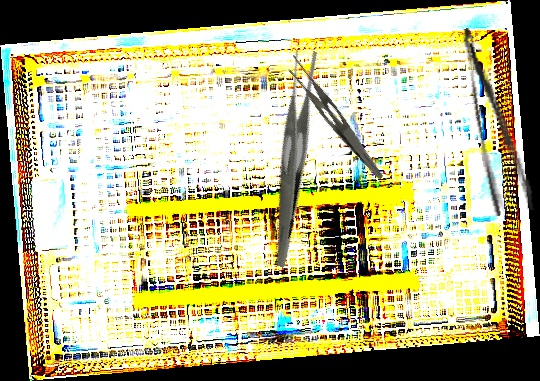Dressing Forceps: (210, 43, 372, 269), (277, 53, 397, 181), (459, 22, 535, 217)
